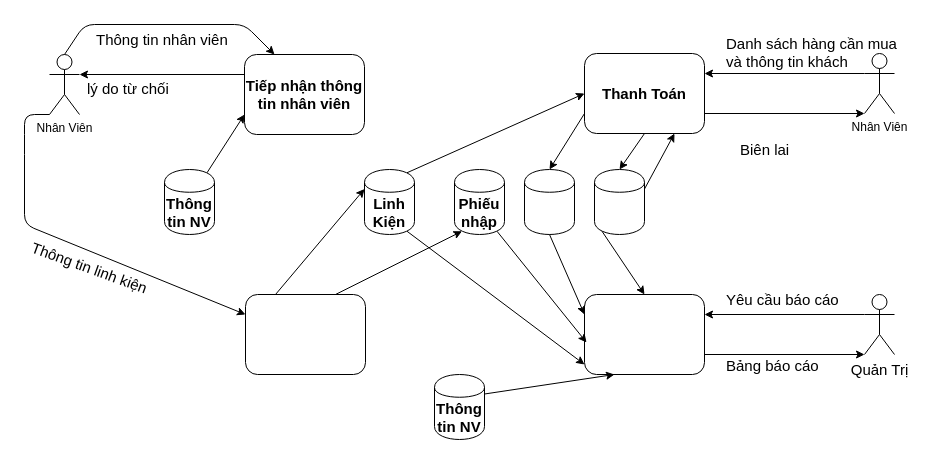
Some shapes in this 932 by 457 pixel diagram are drawn without their labels. Each missing label, with the centre of its shape:
"Báo Cáo" goes at [644,334].
"Phiếu xuất" goes at [549,201].
"Thông tin KH" goes at [619,201].
"Tiếp nhận thông tin linh kiện" goes at [305,334].
